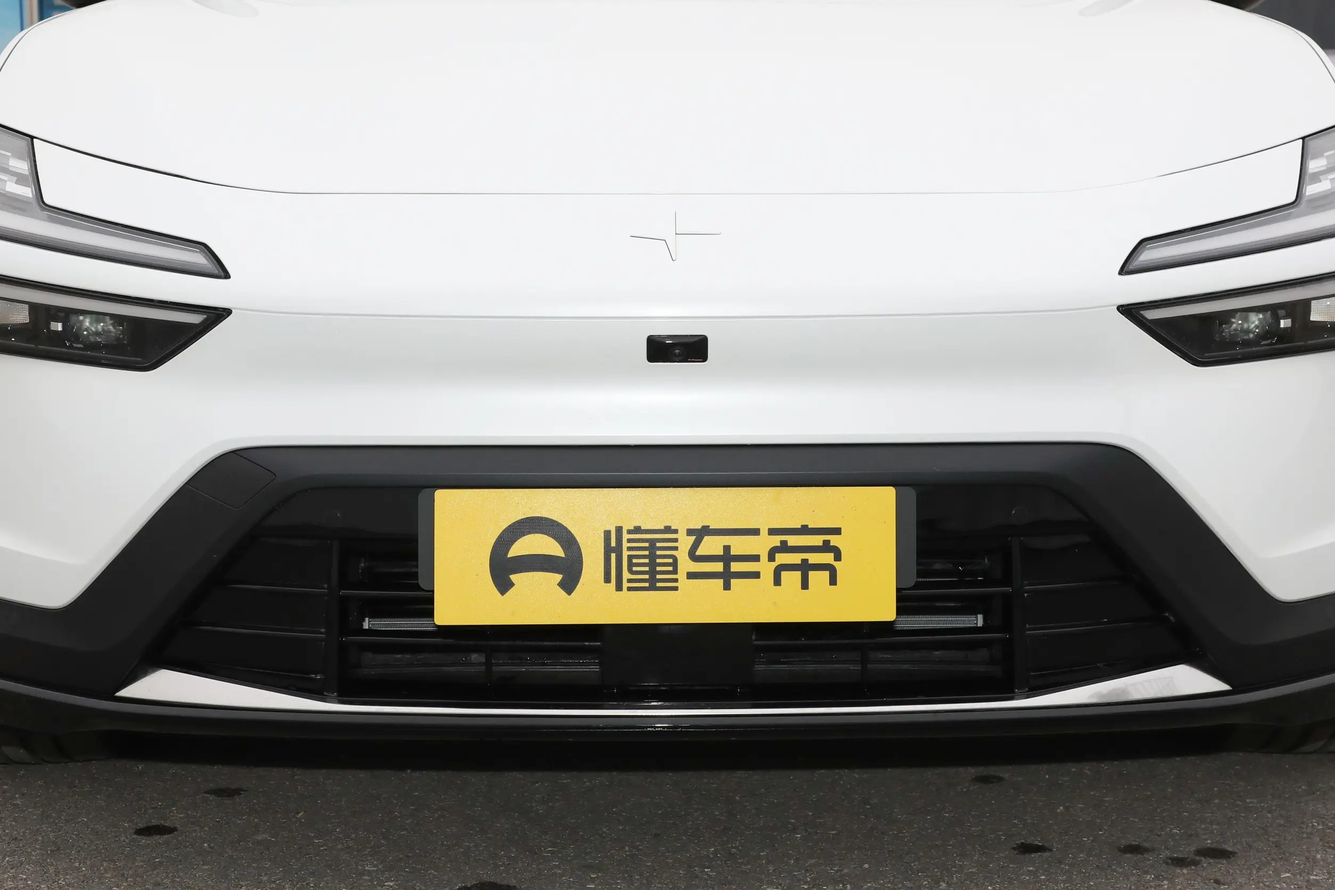Polestar: (630, 211, 720, 260)
